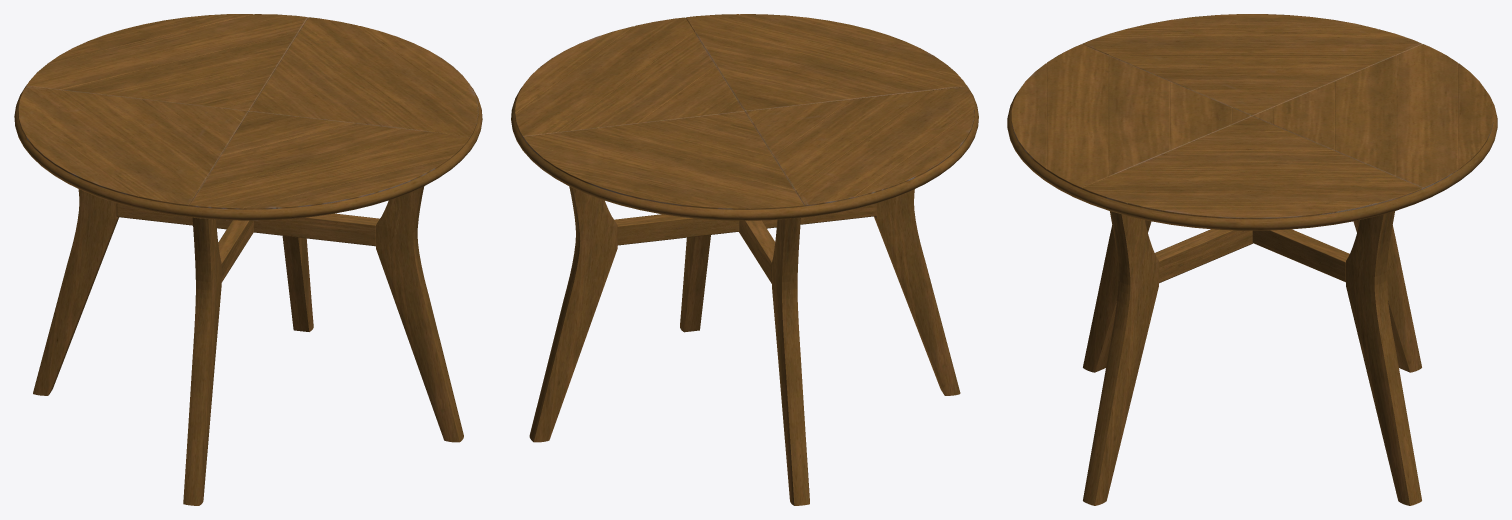
File: B07B78LZQC.glb
The picture shows the model from 3 angles, left to right: view 1: azimuth 30°, elevation 25°; view 2: azimuth 150°, elevation 25°; view 3: azimuth 270°, elevation 25°; orthographic projection. The views are drawn at different scales.
Visible parts, largest first — view 1: RootNode; view 2: RootNode; view 3: RootNode.
Boxes of the visible parts, left/top/right/bottom form: RootNode: left=14, top=14, right=482, bottom=505; RootNode: left=511, top=14, right=978, bottom=505; RootNode: left=1007, top=14, right=1497, bottom=505.
Size of the model in its own units: 1.05 by 0.7566 by 1.05.
Materials: 1 (1 with a texture image).
